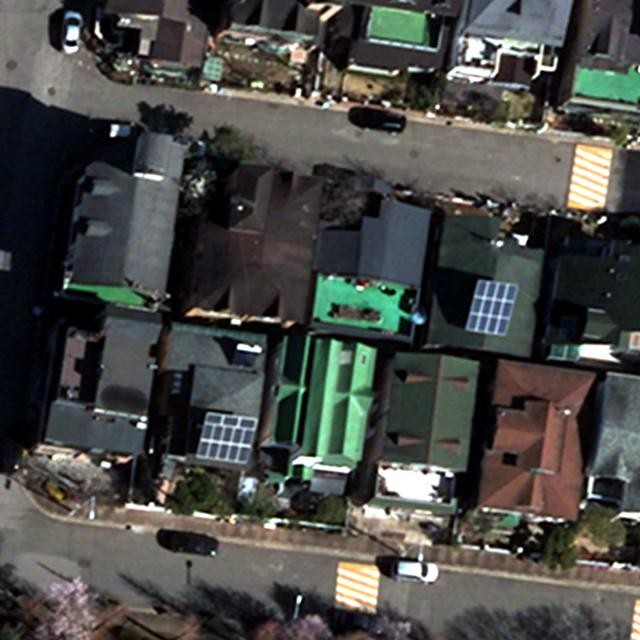panel: (193, 410, 261, 467), (464, 275, 520, 340)
